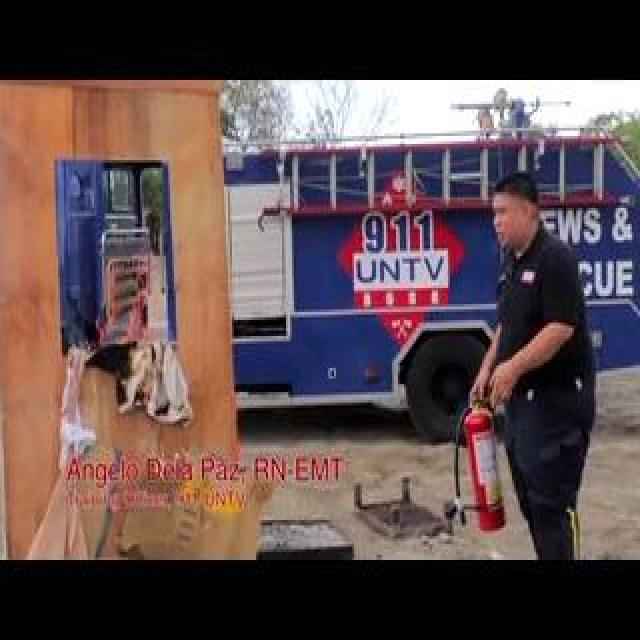Fire: (102, 120, 120, 304)
